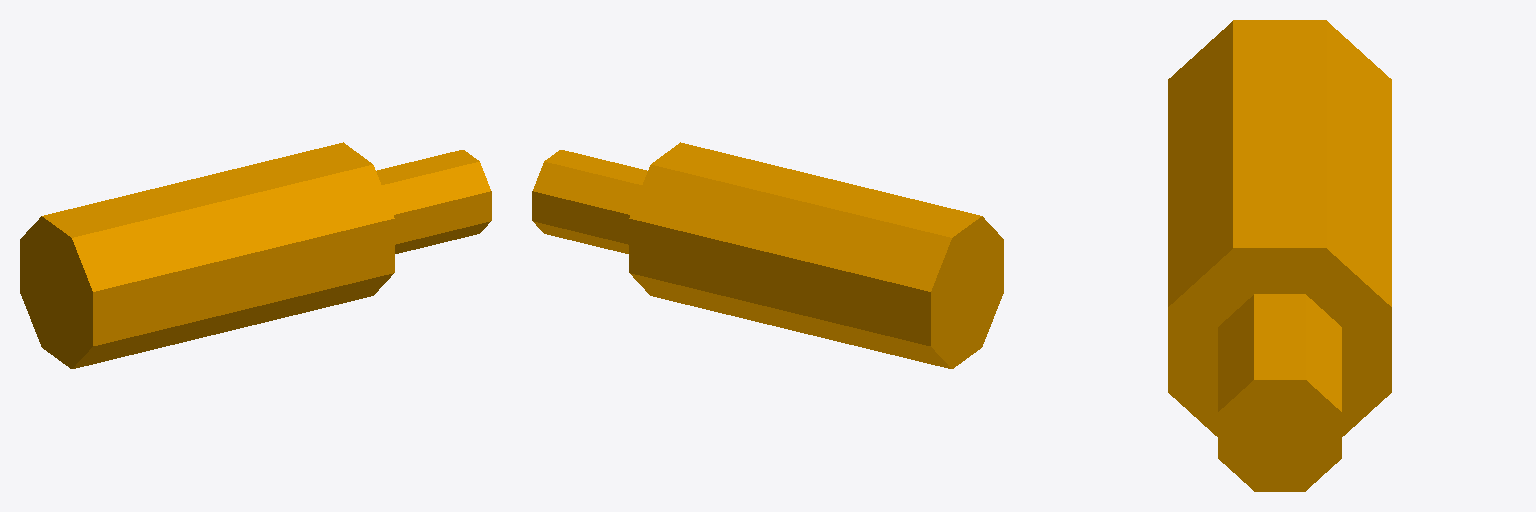
The robot description file, URDF, robot "barrel":
<?xml version="1.0"?>
<robot name="barrel">
  <link name="barrel">
    <visual><geometry><mesh filename="barrel_visual.obj"/></geometry></visual>
    <collision><geometry><mesh filename="barrel_hull.obj"/></geometry></collision>
  </link>
</robot>

--- What the picture shows (computed from the rendered views, not written in the file) ---
The picture shows the robot from 3 angles, left to right: view 1: azimuth 30°, elevation 25°; view 2: azimuth 150°, elevation 25°; view 3: azimuth 270°, elevation 25°; orthographic projection.
Model barrel with 1 links and 0 joints (none), rooted at barrel, posed every joint at zero.
Links seen in each view (by area): view 1: barrel; view 2: barrel; view 3: barrel.
Link boxes in pixels (x1=…): barrel: x1=20, y1=142, x2=491, y2=368; barrel: x1=532, y1=142, x2=1003, y2=368; barrel: x1=1168, y1=20, x2=1391, y2=491.
Size in the robot's own frame: 0.033 by 0.01 by 0.01 metres.
Meshes: 1 distinct files referenced, 1 mesh visuals loaded (1 OBJ).
